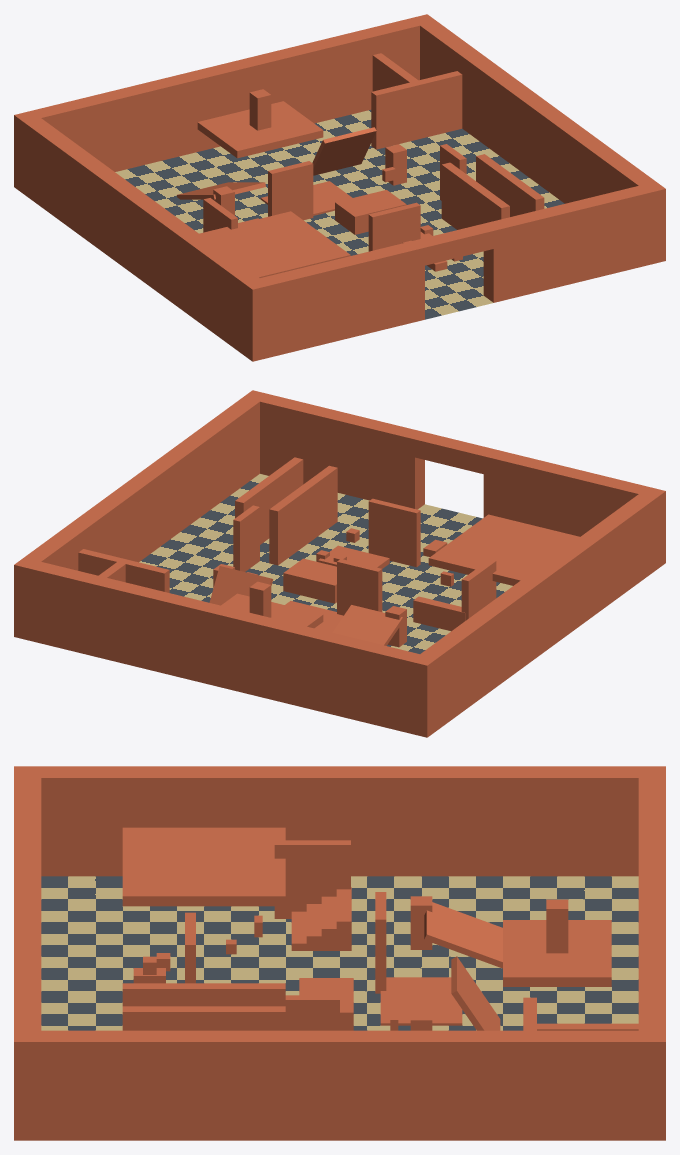
File: phase6_level01.glb
The picture shows the model from 3 angles, top to bottom: view 1: azimuth 30°, elevation 25°; view 2: azimuth 150°, elevation 25°; view 3: azimuth 270°, elevation 25°; orthographic projection. The views are drawn at different scales.
Visible parts, largest first — view 1: wall_north, wall_west, Textured Floor, wall_east, wall_south_right, wall_south_left, low_ceiling, inside_corner_a, elevated_platform, corridor_left, door_locked_blue, corridor_right (+11 smaller); view 2: wall_north, wall_west, wall_east, Textured Floor, wall_south_right, wall_south_left, low_ceiling, corridor_left, door_direct, corridor_right, door_locked_blue, arch_header (+12 smaller); view 3: wall_east, wall_west, Textured Floor, low_ceiling, wall_north, elevated_platform, door_switch, wall_south_right, corridor_right, corridor_left, damage_lava, walkable_ramp (+14 smaller).
Part boxes in pixels (x1=…): wall_north: x1=14, y1=15, x2=436, y2=193; wall_west: x1=14, y1=111, x2=269, y2=361; Textured Floor: x1=115, y1=110, x2=564, y2=319; wall_east: x1=410, y1=14, x2=665, y2=264; wall_south_right: x1=483, y1=181, x2=665, y2=302; wall_south_left: x1=242, y1=240, x2=424, y2=361; low_ceiling: x1=199, y1=211, x2=350, y2=277; inside_corner_a: x1=371, y1=71, x2=462, y2=149; elevated_platform: x1=197, y1=101, x2=323, y2=158; corridor_left: x1=441, y1=162, x2=509, y2=229; door_locked_blue: x1=268, y1=161, x2=313, y2=220; corridor_right: x1=476, y1=154, x2=544, y2=216; wall_north: x1=14, y1=557, x2=437, y2=735; wall_west: x1=410, y1=487, x2=665, y2=737; wall_east: x1=14, y1=390, x2=269, y2=640; Textured Floor: x1=139, y1=474, x2=512, y2=653; wall_south_right: x1=245, y1=390, x2=424, y2=509; wall_south_left: x1=483, y1=449, x2=665, y2=569; low_ceiling: x1=428, y1=514, x2=579, y2=585; corridor_left: x1=269, y1=465, x2=337, y2=565; door_direct: x1=368, y1=498, x2=420, y2=567; corridor_right: x1=235, y1=457, x2=303, y2=544; door_locked_blue: x1=337, y1=559, x2=382, y2=615; arch_header: x1=415, y1=432, x2=493, y2=473; wall_east: x1=14, y1=1030, x2=665, y2=1140; wall_west: x1=14, y1=766, x2=665, y2=876; Textured Floor: x1=41, y1=876, x2=638, y2=1030; low_ceiling: x1=122, y1=827, x2=285, y2=906; wall_north: x1=638, y1=766, x2=665, y2=1140; elevated_platform: x1=503, y1=920, x2=611, y2=986; door_switch: x1=274, y1=840, x2=350, y2=918; wall_south_right: x1=14, y1=927, x2=41, y2=1140; corridor_right: x1=122, y1=1006, x2=285, y2=1030; corridor_left: x1=122, y1=983, x2=285, y2=1006; damage_lava: x1=380, y1=977, x2=462, y2=1025; walkable_ramp: x1=424, y1=902, x2=502, y2=968.
Bounding box in the file's own units: 24 × 4.11 × 24.
2 materials, 1 textured.
